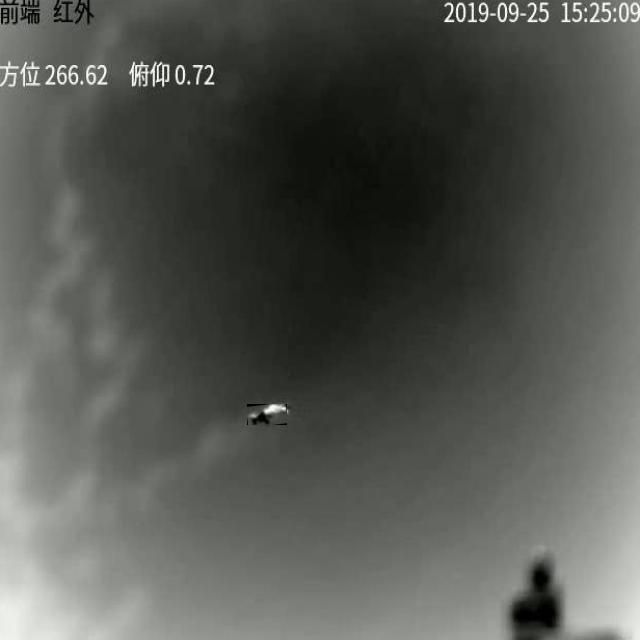drone: (247, 404, 287, 425)
